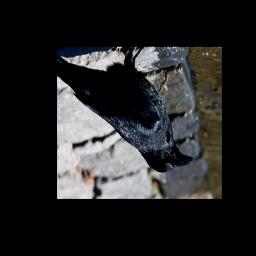Crow: (58, 47, 196, 174)
